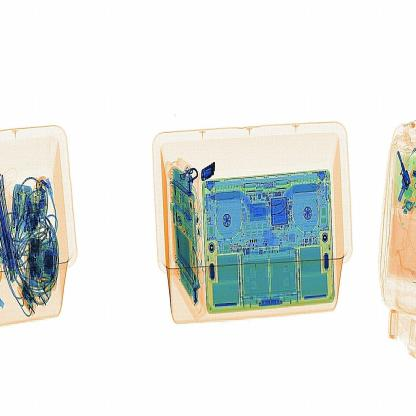knife: (199, 159, 221, 181)
